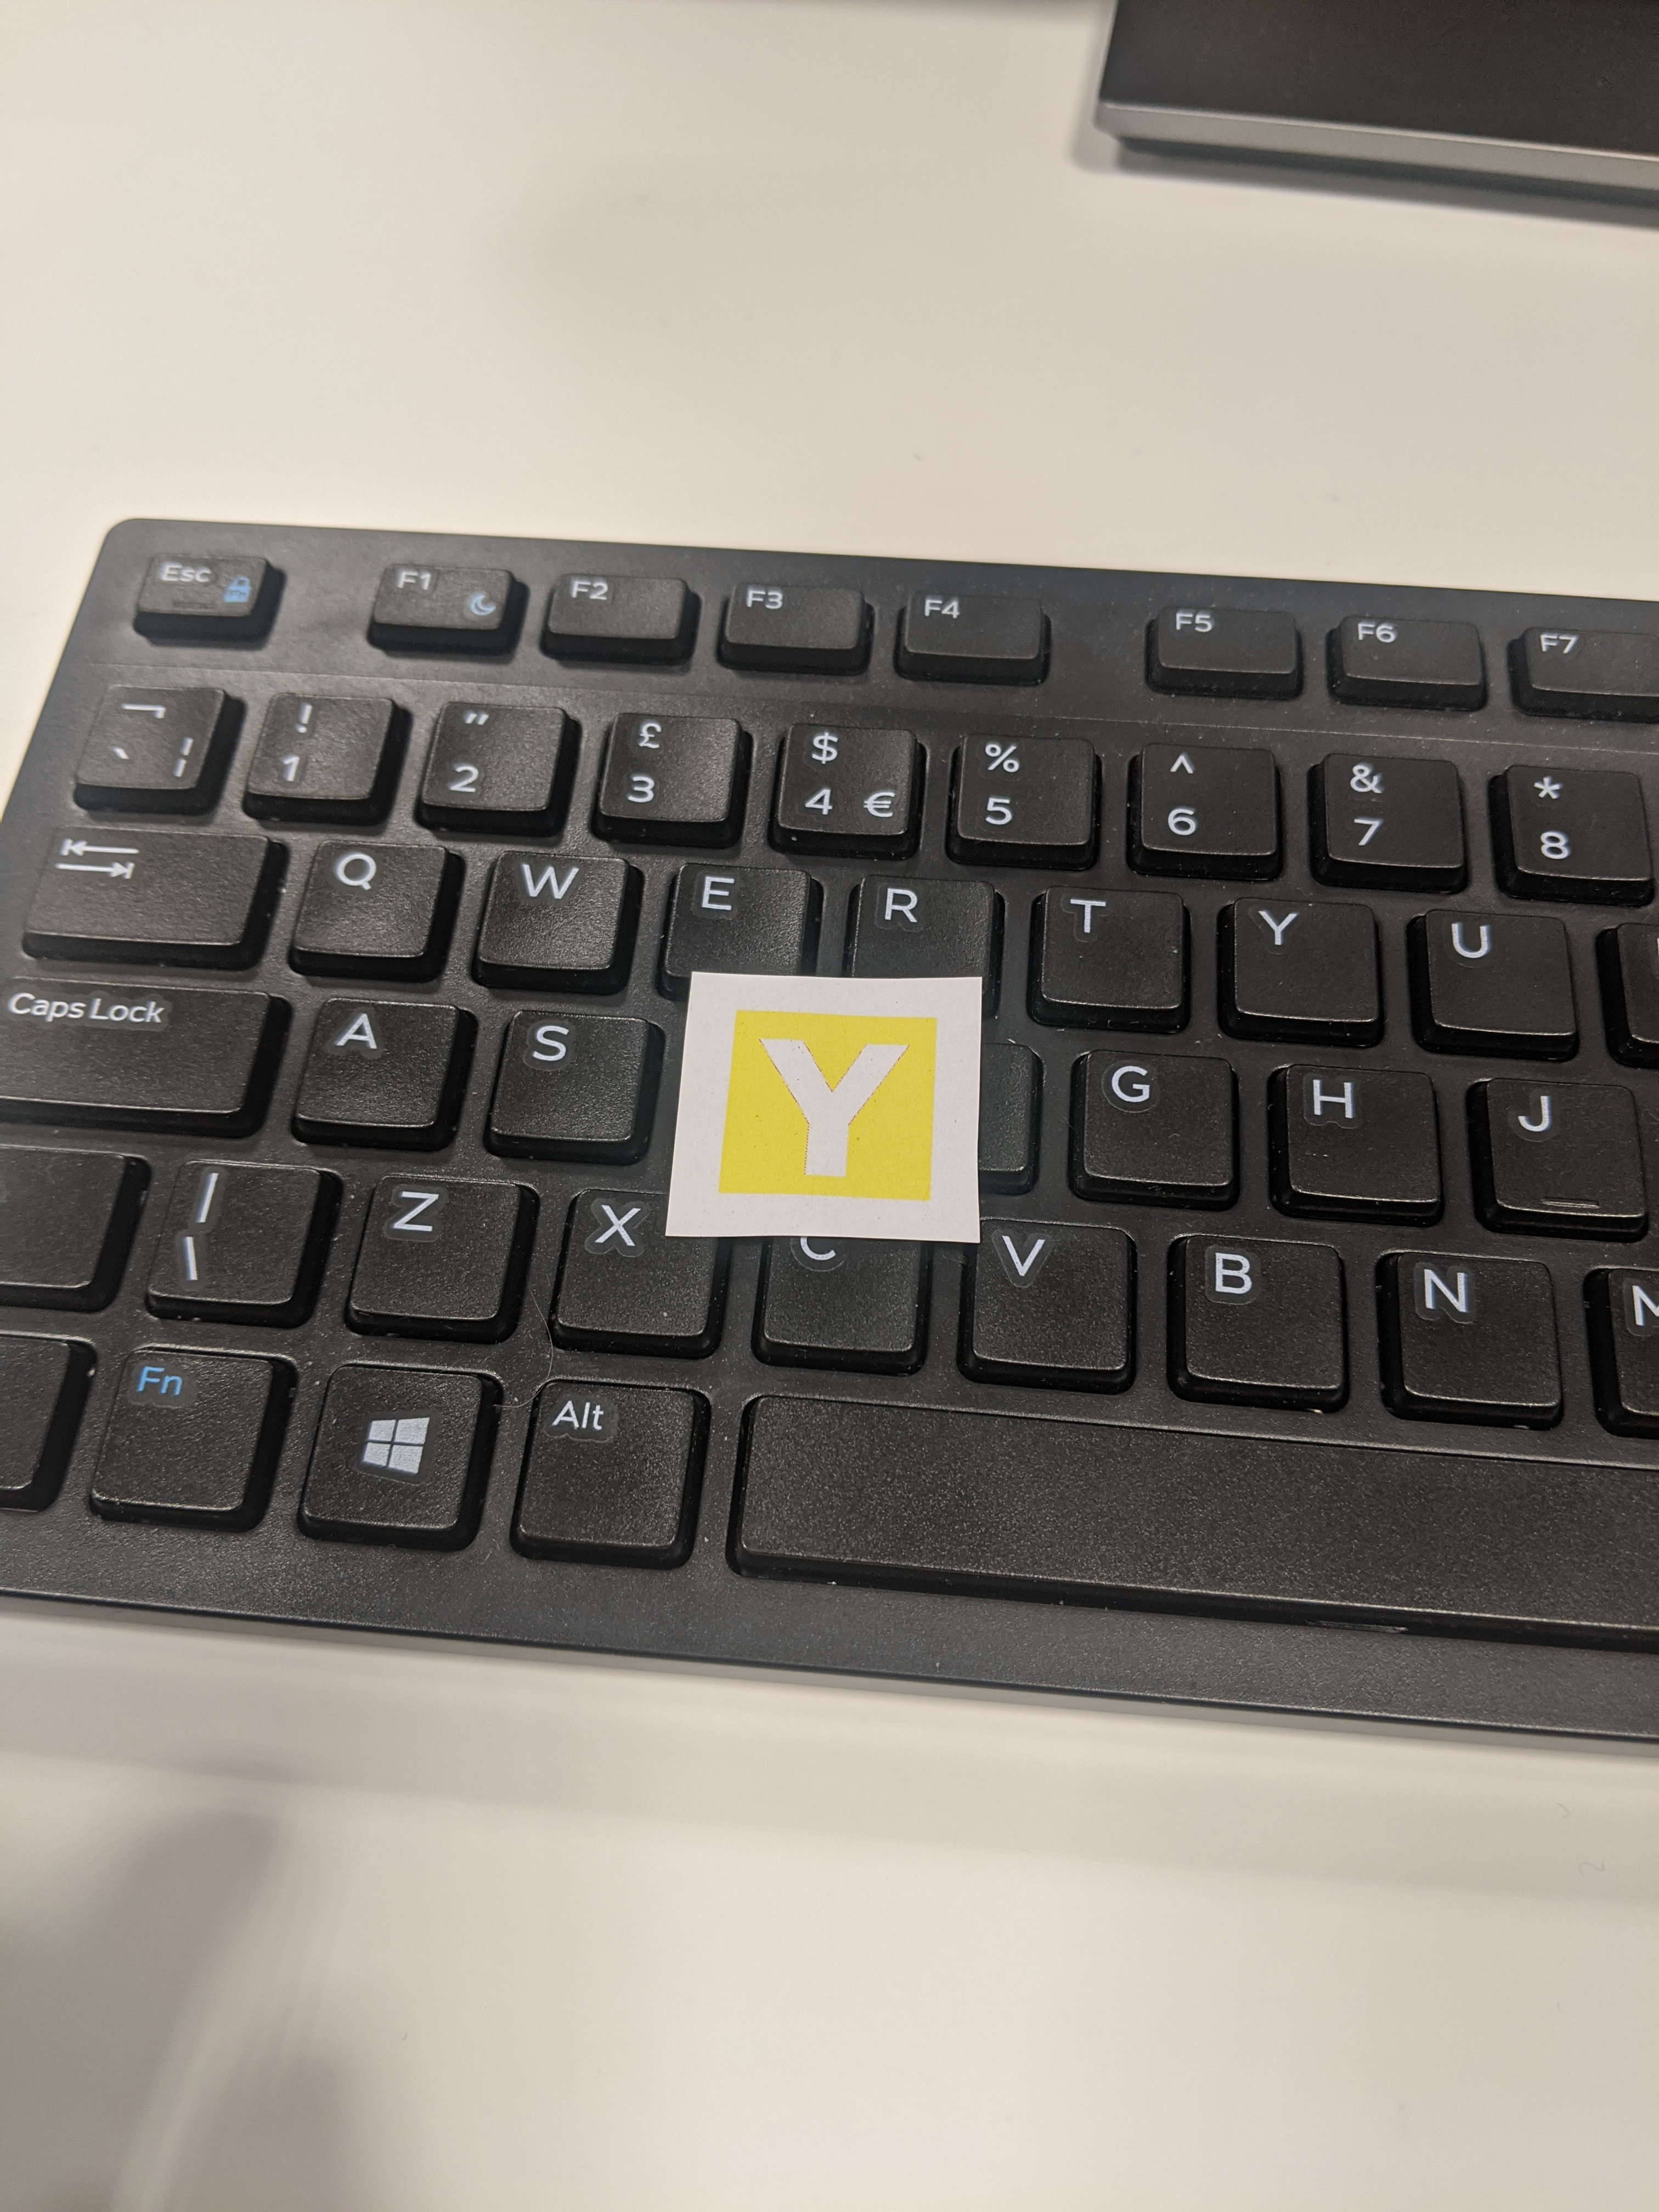yellow marker: (652, 939, 1012, 1258)
